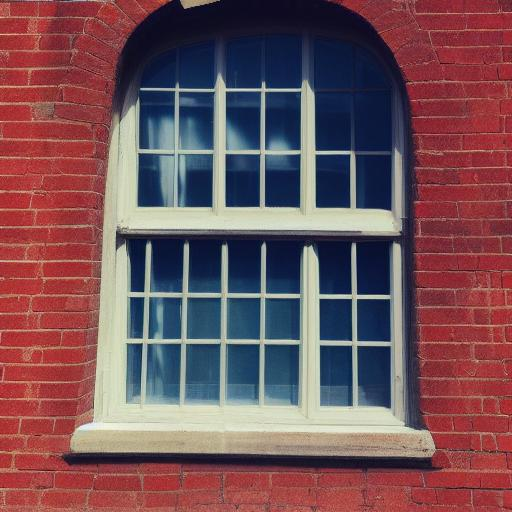Window: (50, 2, 453, 467)
